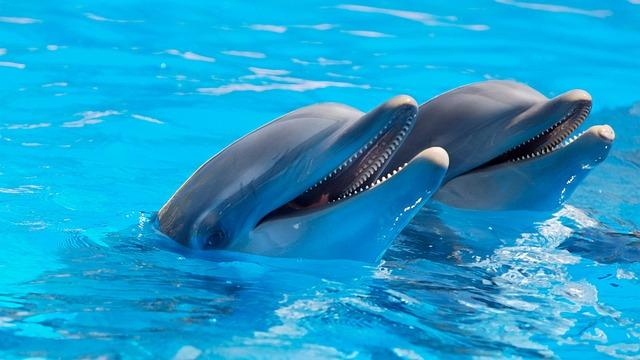Non_Gorille: (140, 14, 611, 323)
